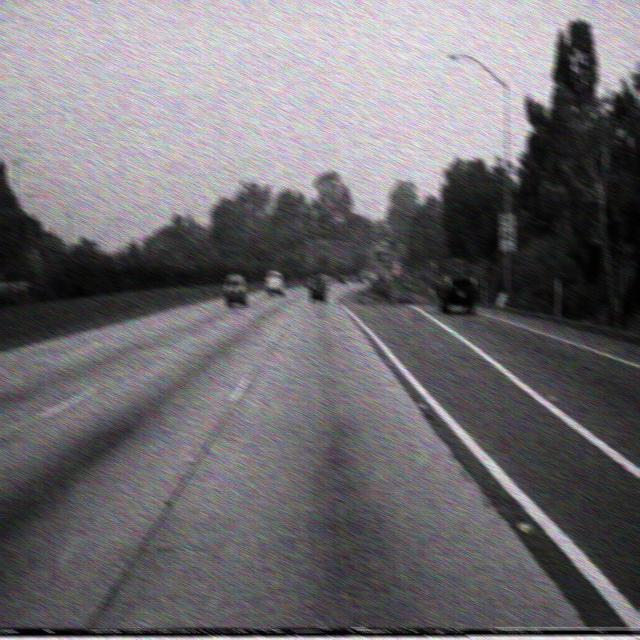speedLimit45: (498, 212, 515, 251)
